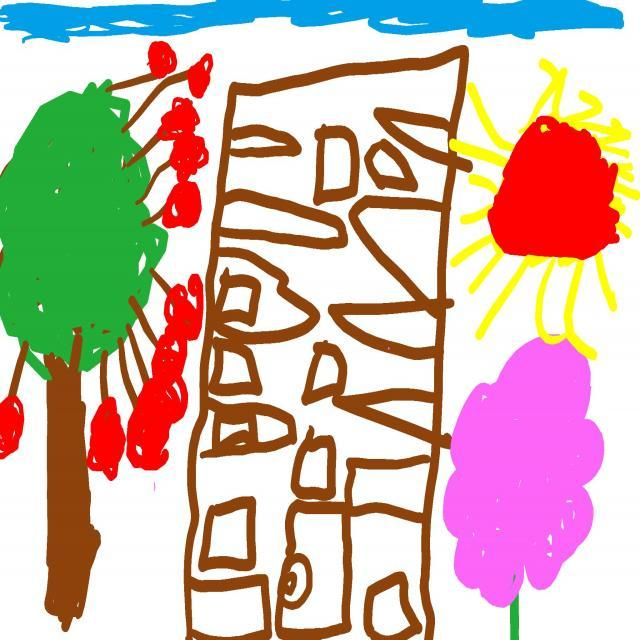door: (277, 499, 353, 635)
house: (185, 46, 471, 640)
sun: (452, 59, 640, 359)
wall: (185, 46, 471, 640)
window: (198, 498, 255, 573), (314, 124, 360, 205), (291, 427, 337, 502), (209, 338, 262, 397), (302, 341, 348, 406), (216, 268, 261, 326), (215, 405, 259, 445)
